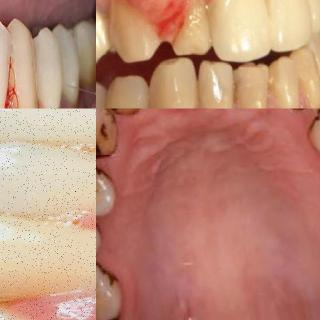Gum Swelling: (99, 0, 219, 45), (5, 294, 96, 320)
stains: (96, 261, 119, 320), (96, 108, 124, 156), (96, 156, 116, 213), (96, 214, 108, 250), (312, 108, 320, 128)
